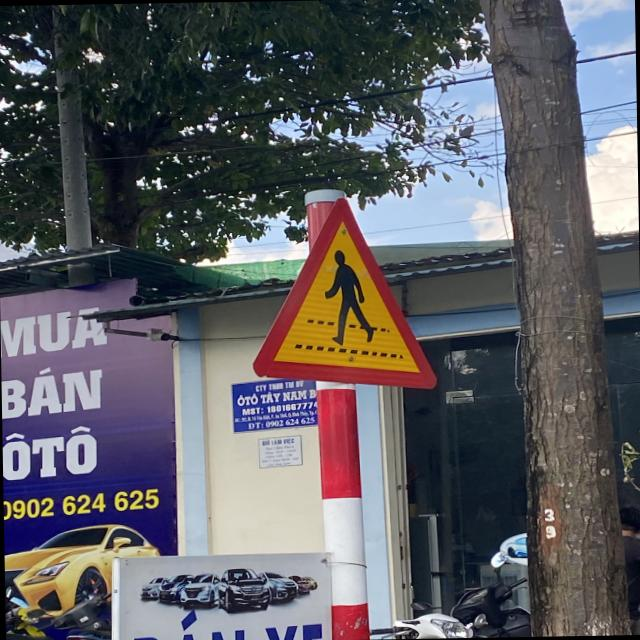Duong_Nguoi_Di_Bo_Sang_Ngang: (252, 202, 436, 389)
